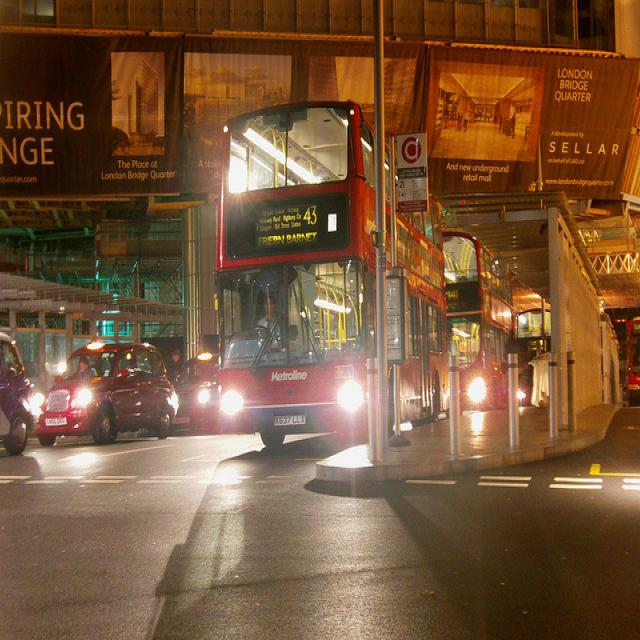Vehicle: (216, 102, 452, 453), (35, 341, 177, 444), (449, 223, 512, 414), (0, 338, 44, 454), (172, 353, 220, 434), (625, 318, 640, 404)
